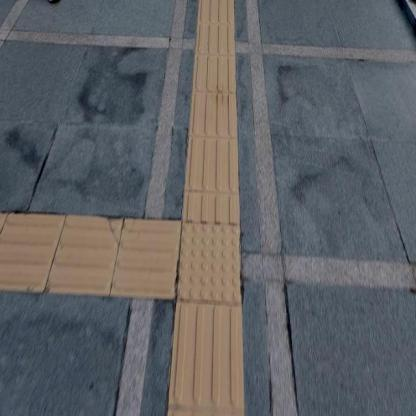podotacti: (143, 182, 276, 345), (0, 210, 176, 300), (181, 0, 241, 219), (164, 304, 247, 415)
